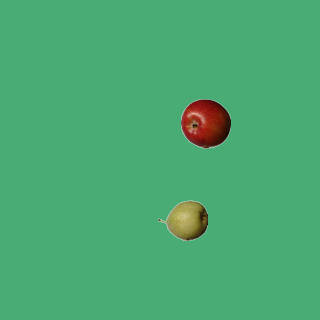Apple Braeburn: (180, 98, 230, 148)
Pear: (157, 195, 207, 245)
